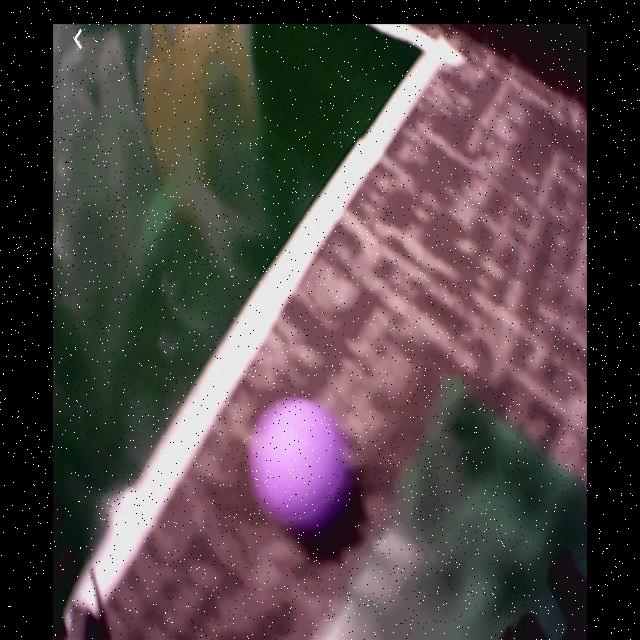ball: (252, 402, 344, 530)
